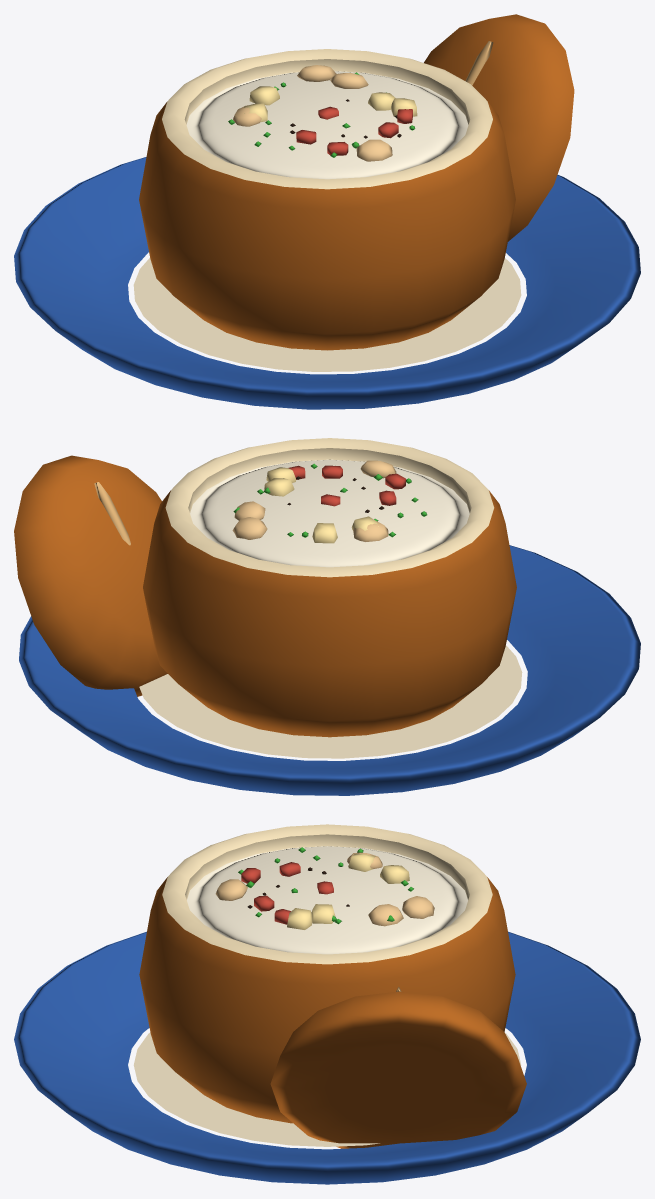
The picture shows the model from 3 angles, top to bottom: view 1: azimuth 30°, elevation 25°; view 2: azimuth 150°, elevation 25°; view 3: azimuth 270°, elevation 25°; orthographic projection.
Parts seen in each view (by area): view 1: bread, plate, chowder, lid, plate_well, crumb_rim, crumb_inner, clams; view 2: bread, plate, lid, chowder, plate_well, crumb_rim, crumb_inner, clams (×2), scores; view 3: plate, bread, lid, chowder, crumb_rim, plate_well, crumb_inner, clams (×3).
Part boxes in pixels (bbox=[...]): bread: bbox=[139, 102, 515, 350]; plate: bbox=[14, 157, 640, 409]; chowder: bbox=[186, 71, 468, 179]; lid: bbox=[424, 14, 574, 241]; plate_well: bbox=[133, 258, 521, 371]; crumb_rim: bbox=[162, 49, 492, 189]; crumb_inner: bbox=[184, 59, 470, 124]; clams: bbox=[356, 139, 392, 161]; bread: bbox=[143, 490, 516, 737]; plate: bbox=[19, 545, 640, 795]; lid: bbox=[14, 455, 167, 696]; chowder: bbox=[190, 459, 469, 567]; plate_well: bbox=[139, 645, 522, 758]; crumb_rim: bbox=[165, 438, 494, 577]; crumb_inner: bbox=[188, 448, 471, 513]; clams (×2): bbox=[232, 517, 388, 541]; scores: bbox=[94, 482, 130, 545]; plate: bbox=[14, 931, 640, 1184]; bread: bbox=[139, 877, 515, 1123]; lid: bbox=[270, 991, 526, 1148]; chowder: bbox=[187, 846, 467, 954]; crumb_rim: bbox=[162, 824, 492, 964]; plate_well: bbox=[133, 1032, 521, 1146]; crumb_inner: bbox=[185, 834, 469, 899]; clams (×3): bbox=[215, 879, 434, 926].
Bounding box in the file's own units: 0.22 × 0.0799 × 0.22.
